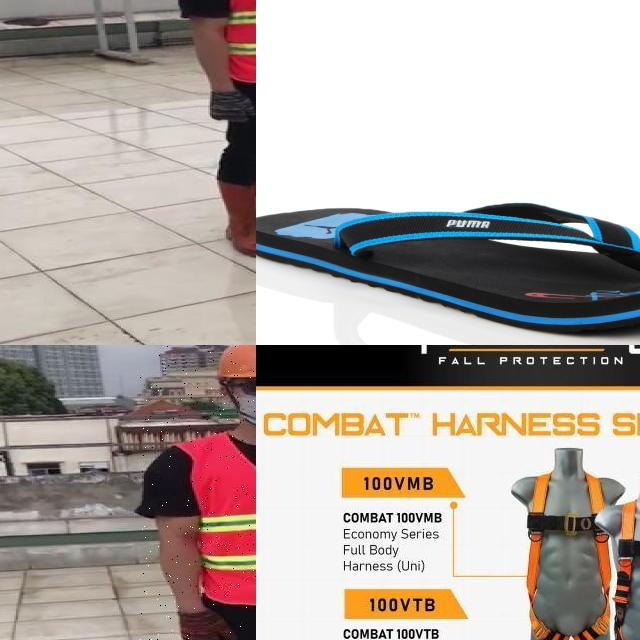Harness: (527, 473, 611, 640), (615, 501, 640, 640), (591, 608, 608, 634)
Sandals: (256, 199, 640, 336)
boots: (213, 176, 256, 262)
head_helmet: (213, 345, 256, 381)
person: (140, 345, 256, 640), (167, 0, 256, 260)
vest: (185, 430, 256, 603)
